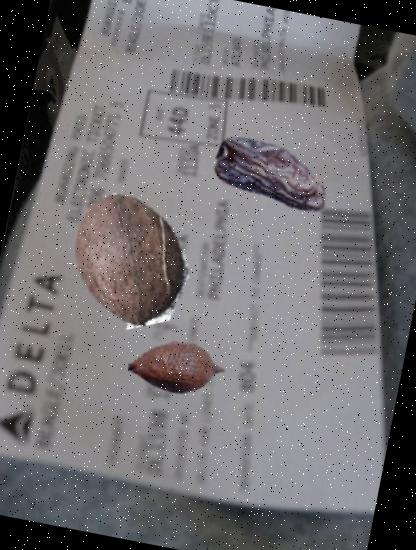Cocos: (51, 180, 210, 338)
Dates: (203, 103, 344, 244)
Salak: (119, 310, 233, 424)
